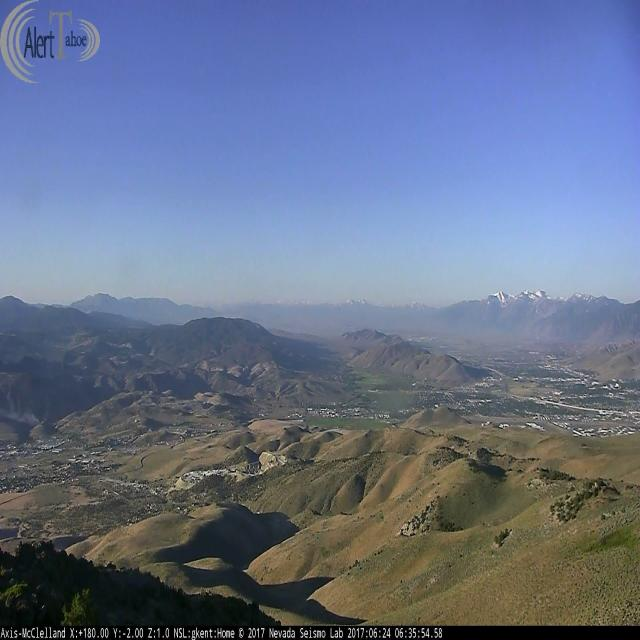smoke: (0, 404, 40, 426)
